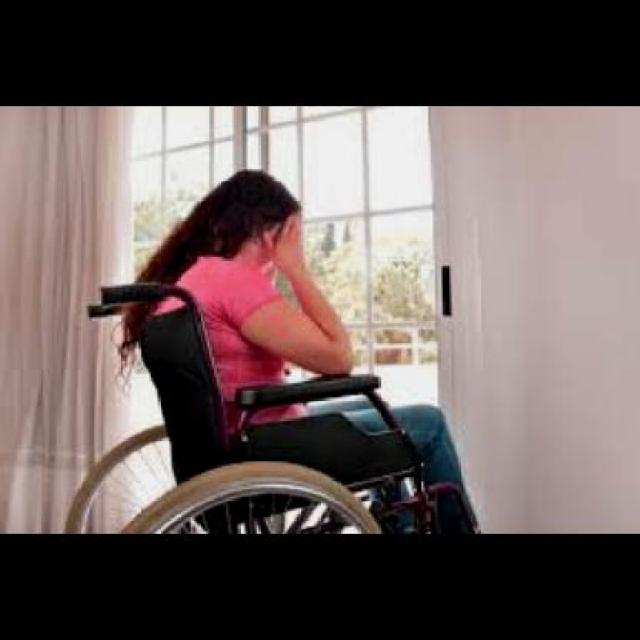wheelchairs: (66, 282, 483, 535)
